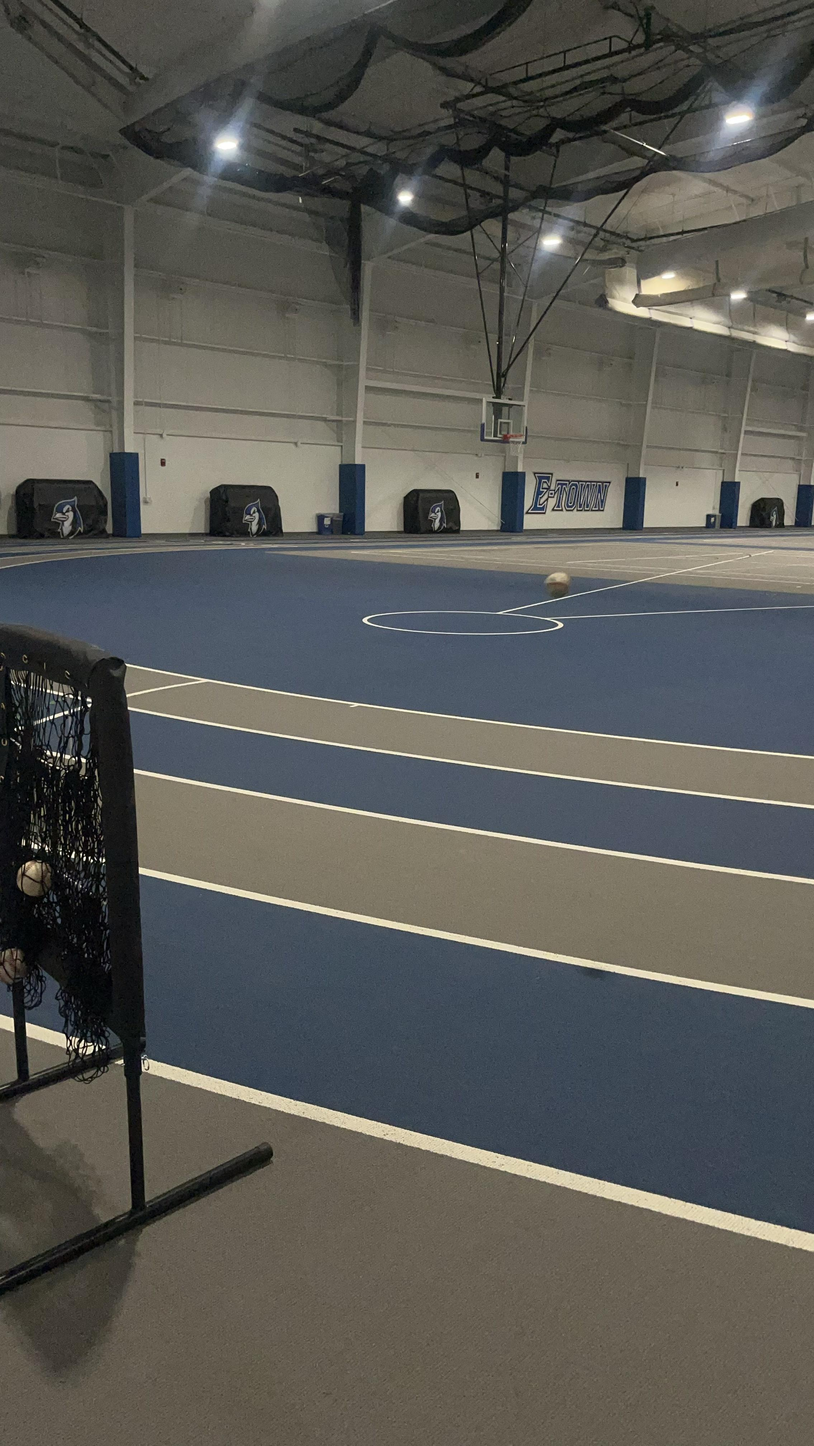Baseball: (15, 859, 55, 899), (540, 569, 580, 602), (0, 947, 30, 986)
